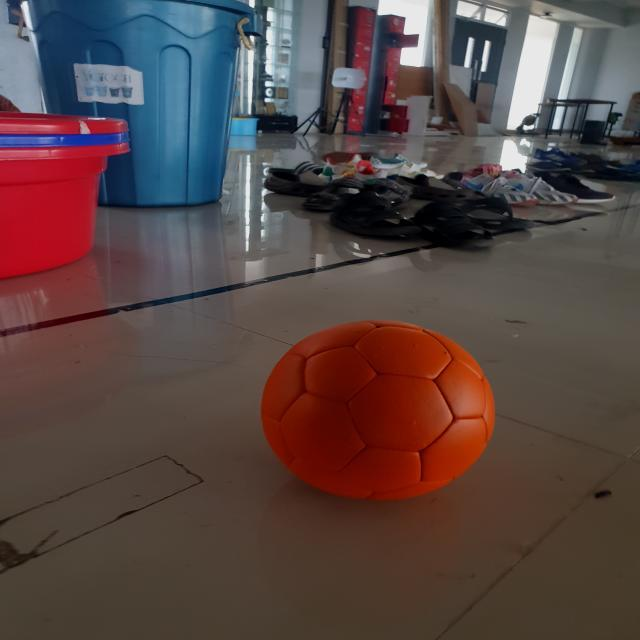bola: (252, 316, 507, 508)
